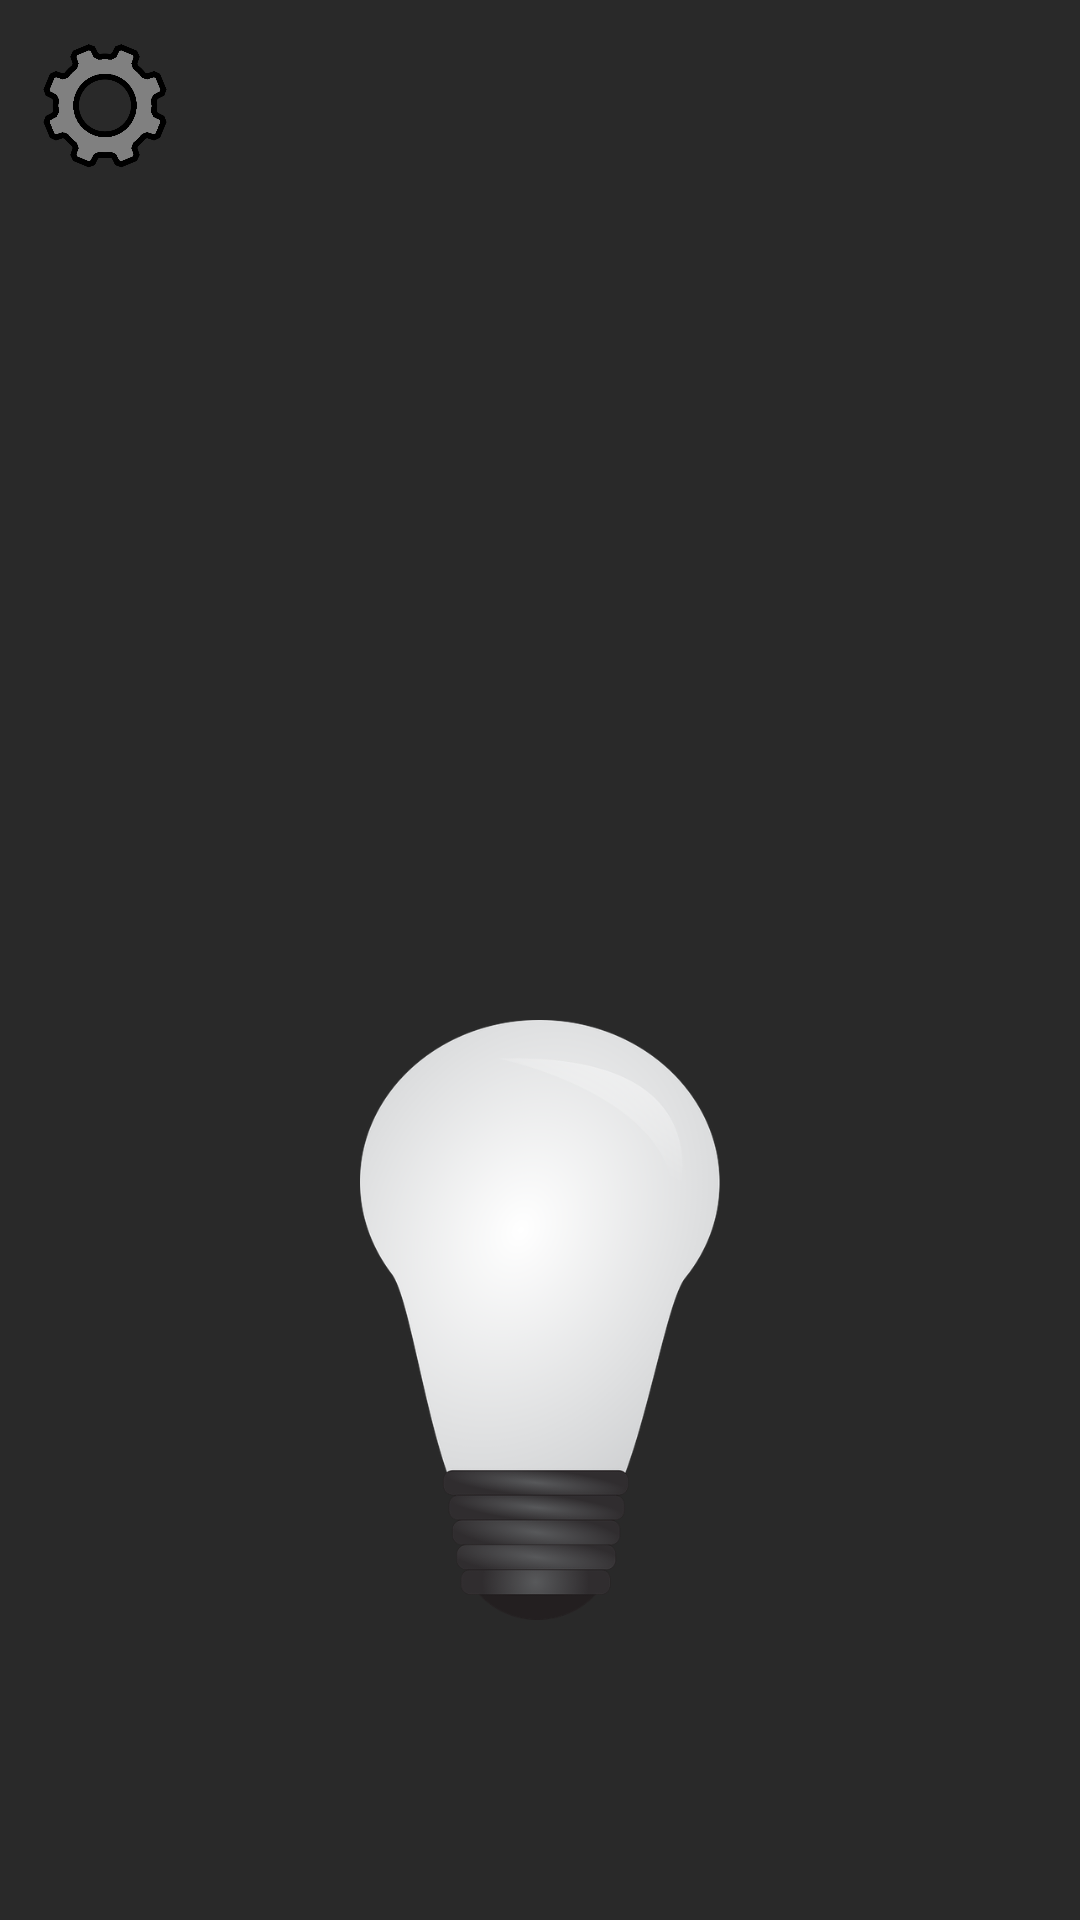

Named icons in this screenshot (1080×1920) and their centers, (x,y):
settings: (105,105)
